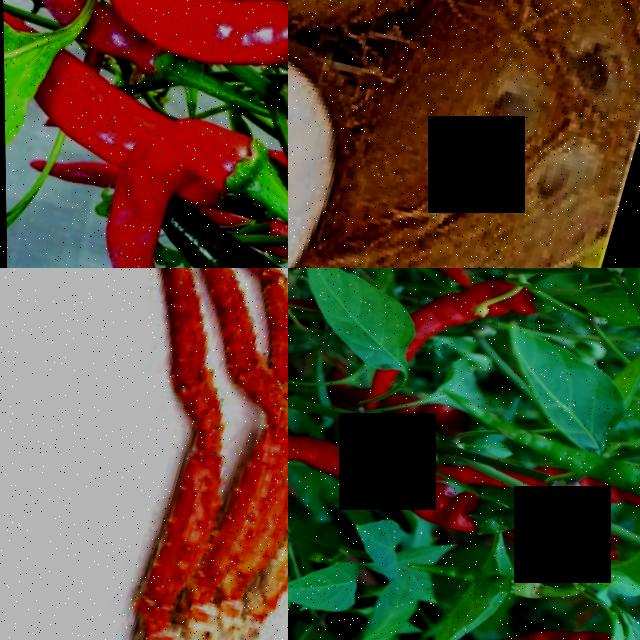chilli: (288, 374, 521, 562), (77, 95, 281, 268), (79, 0, 288, 113), (404, 268, 555, 376), (425, 268, 594, 313), (450, 599, 621, 640)
coconut: (301, 0, 640, 268), (288, 0, 385, 268), (288, 0, 551, 89)
crab: (30, 268, 288, 640)
